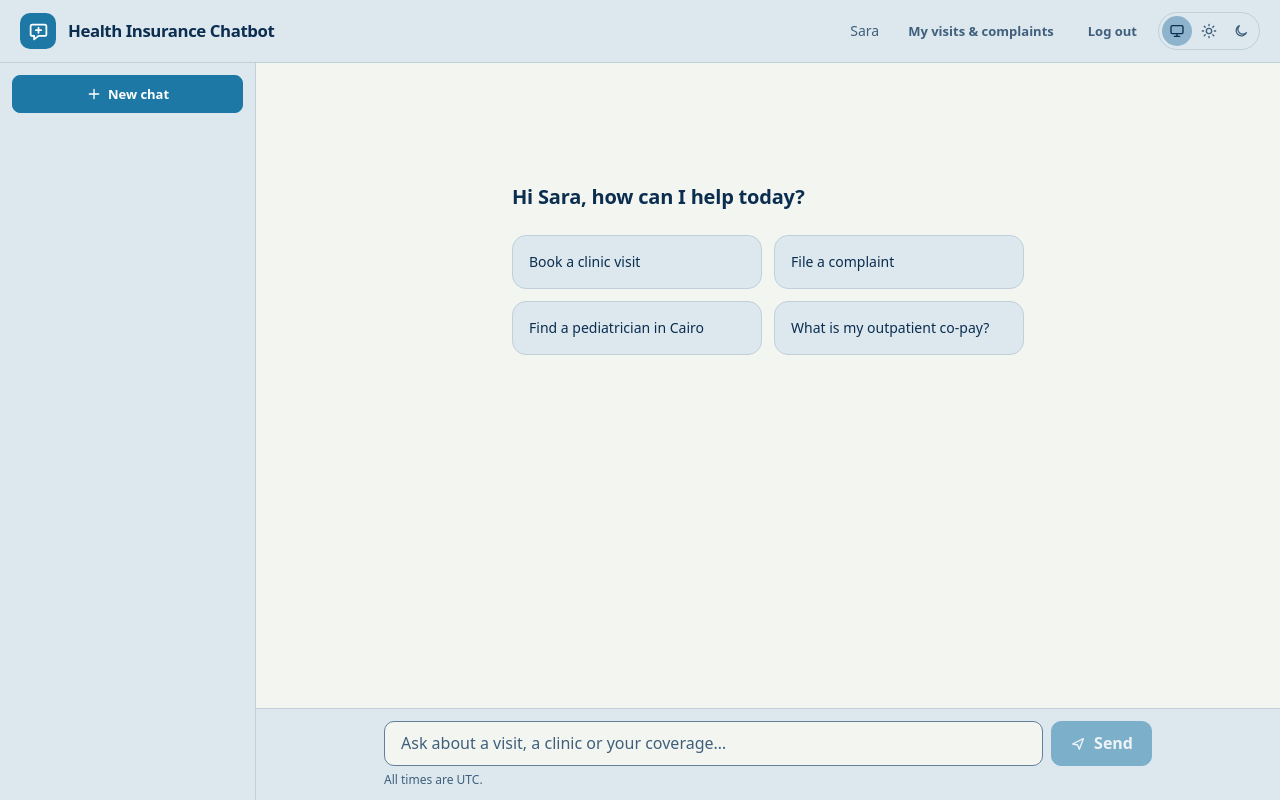
Test: ChatPage › F12: cards render only after the turn finishes streaming
Type "book" into the field with test id "chat-input".
click(714, 744); type("book")  # box [384, 721, 1043, 766]
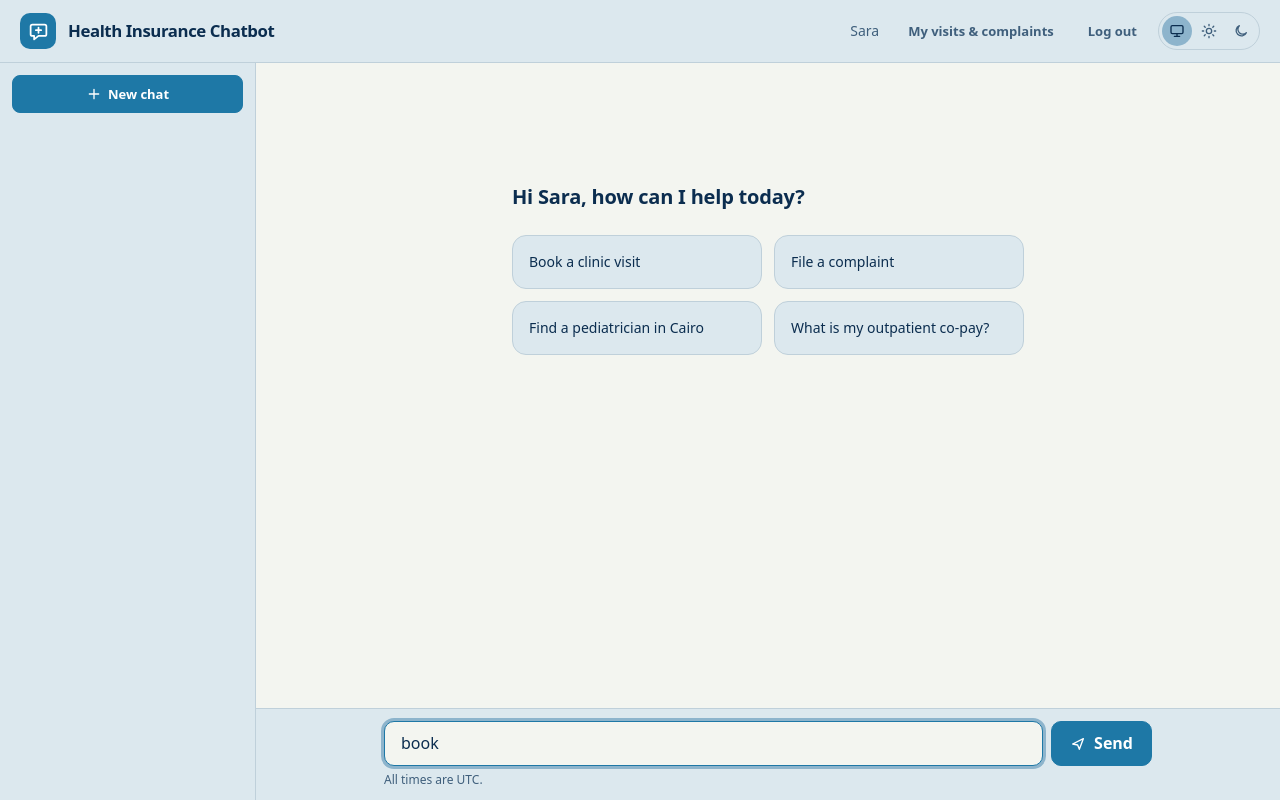
Click the button with test id "send-btn".
click(1102, 744)  # box [1051, 721, 1152, 766]
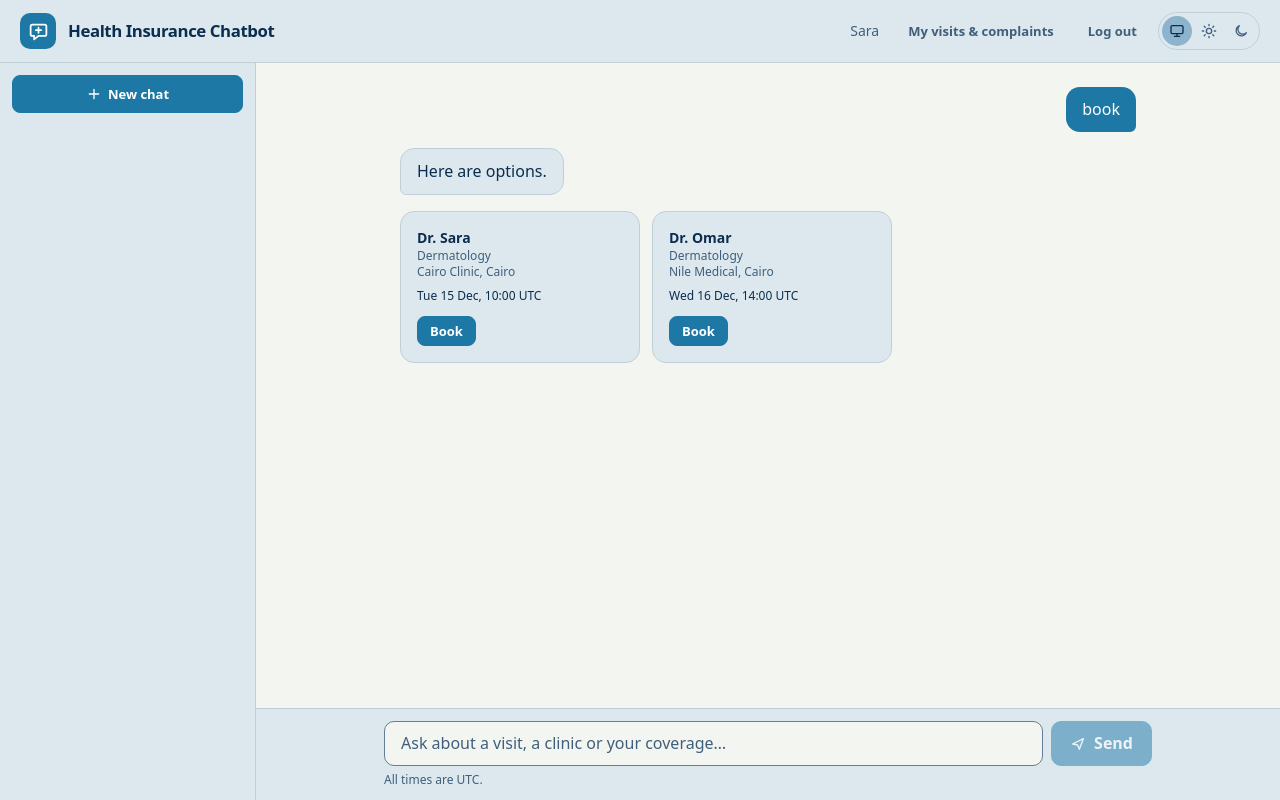
Now the text "Here are options." is shown, box [417, 159, 547, 184]
Now the number of elements with test id "doctor-card" is 2, box [400, 211, 640, 363]; [652, 211, 892, 363]
